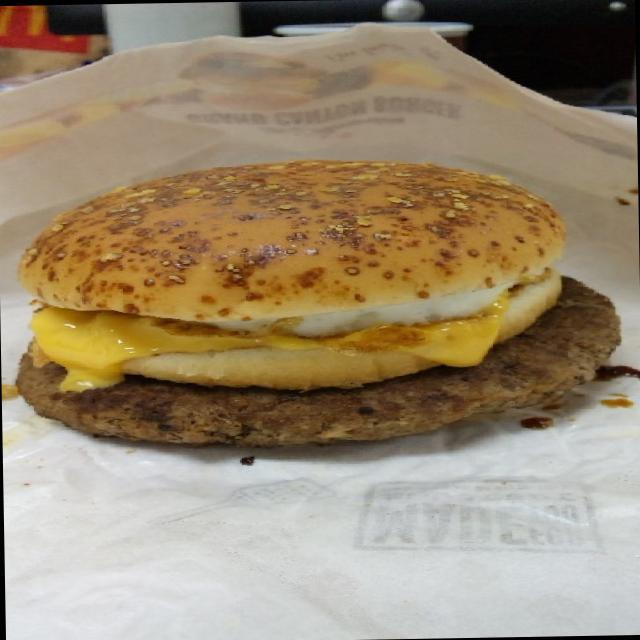Hamburger: (4, 160, 636, 476)
